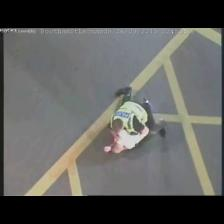person: (105, 87, 165, 153)
